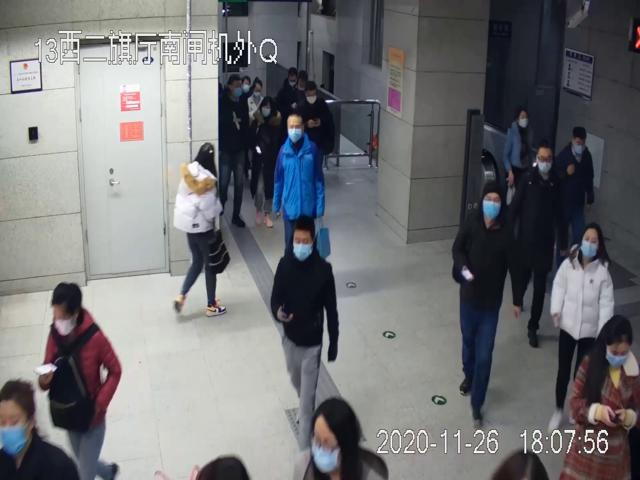person: (451, 180, 523, 426), (270, 213, 341, 456), (39, 283, 123, 480), (510, 143, 563, 348), (174, 141, 230, 319), (271, 113, 333, 260), (217, 74, 250, 227), (558, 127, 596, 251)
